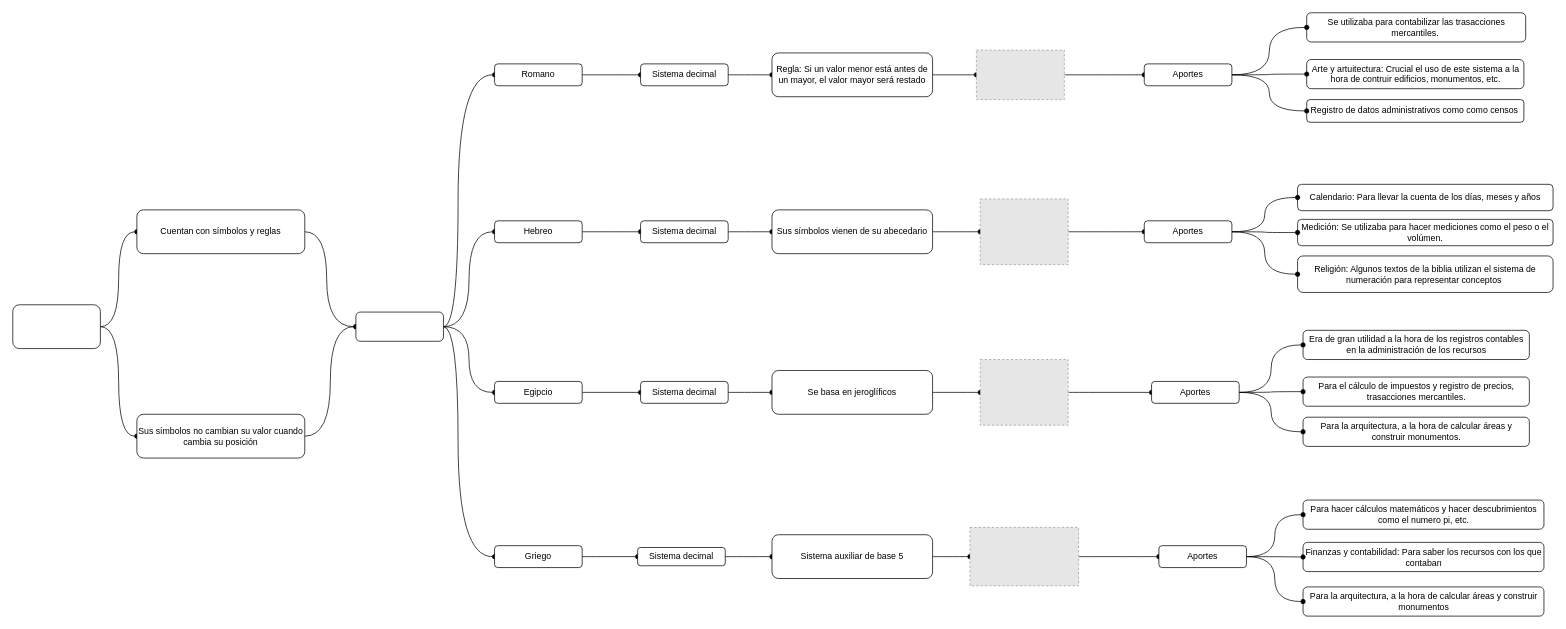
This 1566x629 diagram has some shape labels left out. Grey dashed boxes stand in for pictures. Each missing label, with the box of its shape:
Ejemplos: (355, 311, 443, 341)
Sistemas numéricos no posicionales: (12, 304, 100, 349)
